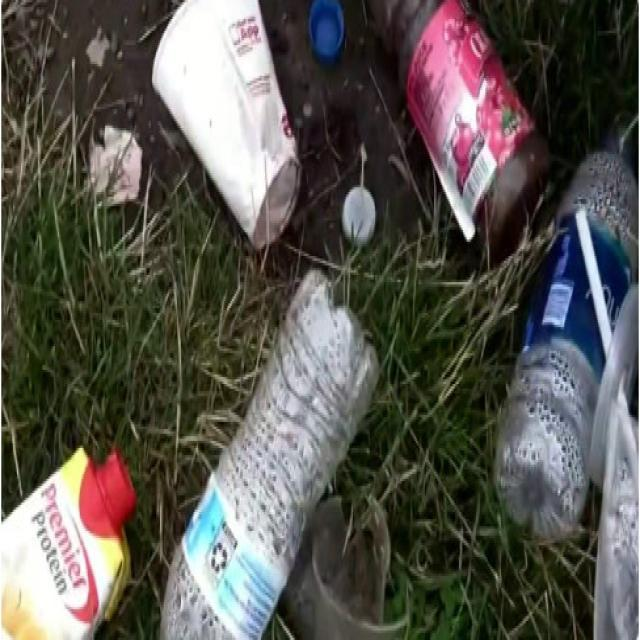food: (150, 0, 302, 244), (82, 99, 148, 224)
leaf: (497, 90, 640, 640), (372, 5, 540, 249), (338, 162, 381, 243), (306, 2, 344, 60)
trash: (165, 263, 404, 640), (3, 396, 133, 640)
